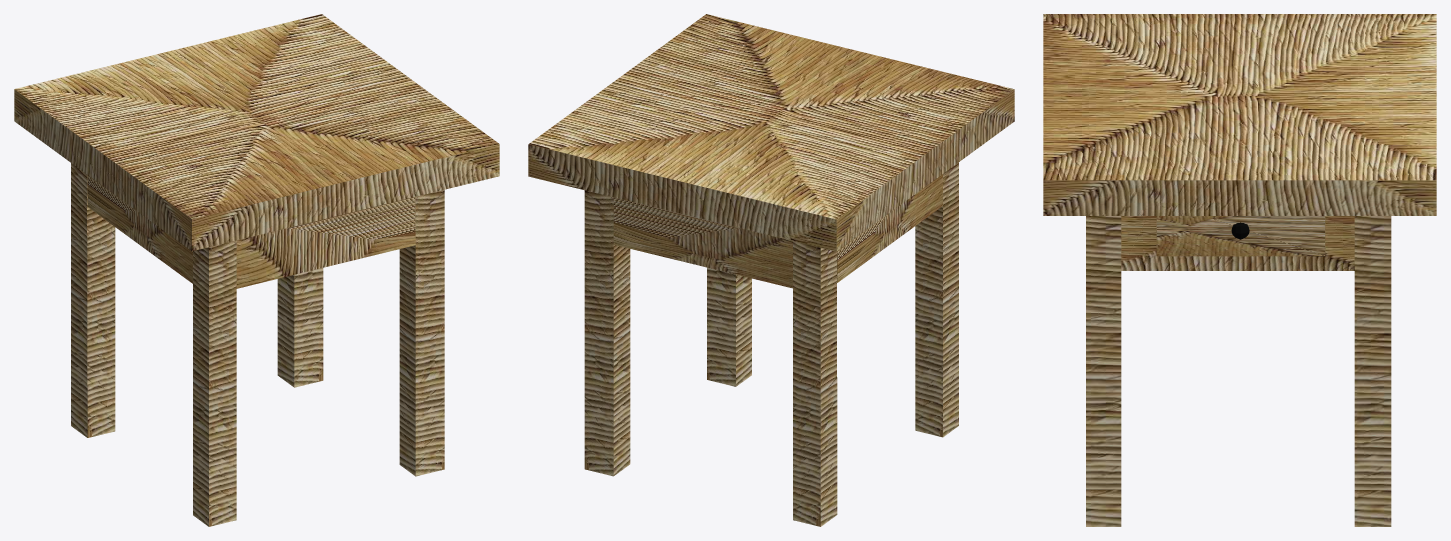
File: Comodino.fbx
The picture shows the model from 3 angles, left to right: view 1: azimuth 30°, elevation 25°; view 2: azimuth 150°, elevation 25°; view 3: azimuth 270°, elevation 25°; orthographic projection. The views are drawn at different scales.
Parts seen in each view (by area): view 1: Tavolo; view 2: Tavolo; view 3: Tavolo, Cassetto.
Part boxes in pixels (x1,y1,x2,y2): Tavolo: (14, 14, 499, 526); Tavolo: (528, 14, 1014, 526); Tavolo: (1043, 14, 1436, 526); Cassetto: (1156, 216, 1325, 256).
Bounding box in the file's own units: 269 × 276 × 269.
